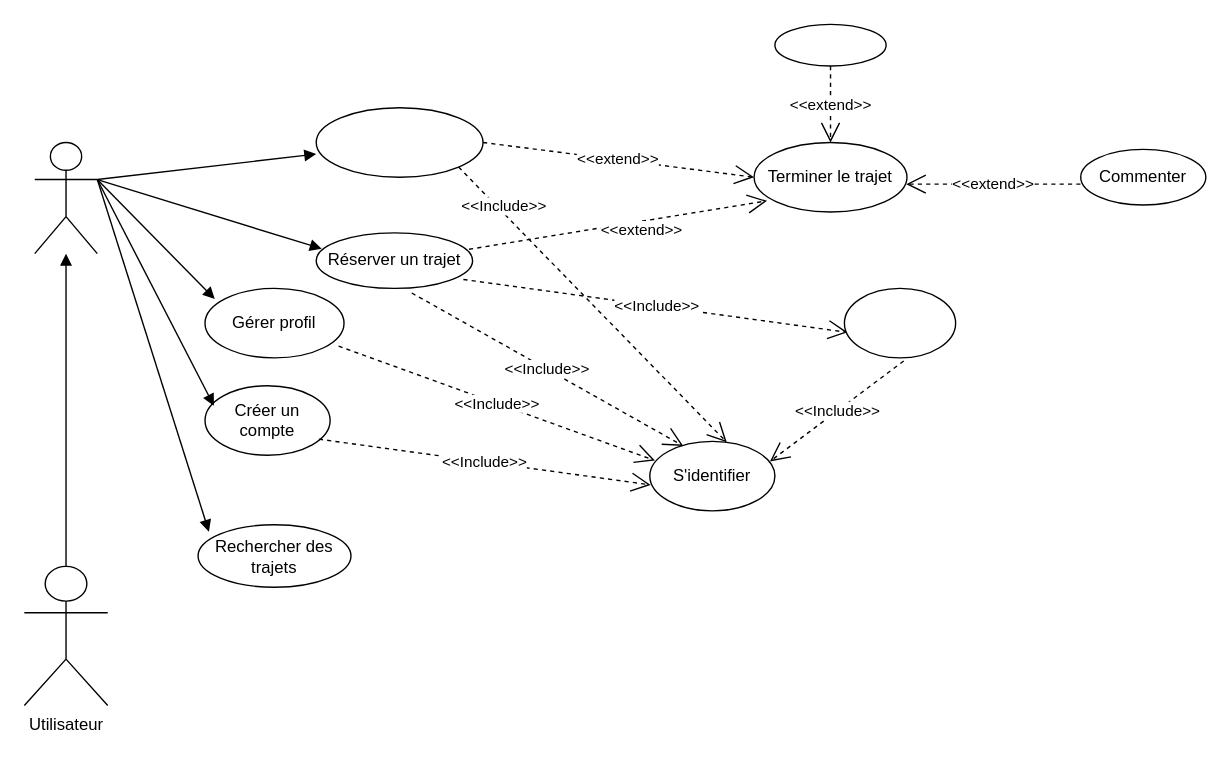
Image size: 1230x759. Some labels were removed from this diagram. Here are the shapes that lost their labels. From the top down, the centre of each, then its label:
At (x=830, y=44): "Être payé".
At (x=399, y=141): "Proposer un trajet".
At (x=65, y=197): "Chauffeur".
At (x=899, y=322): "Payer".
